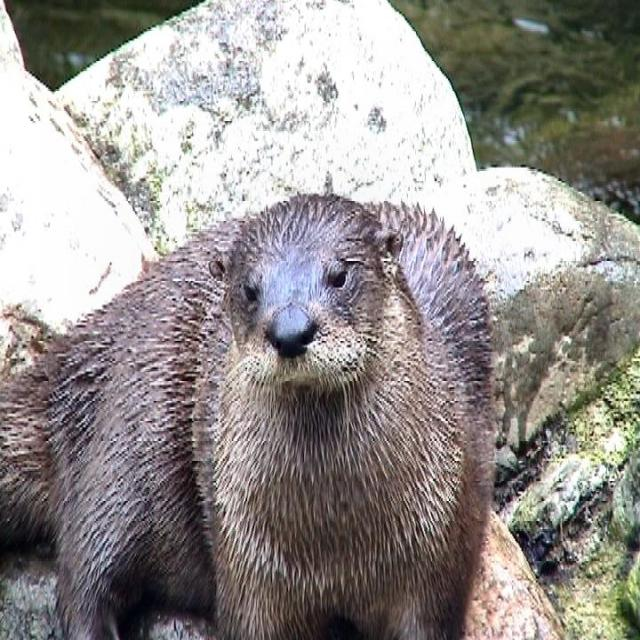otter: (1, 192, 494, 640)
